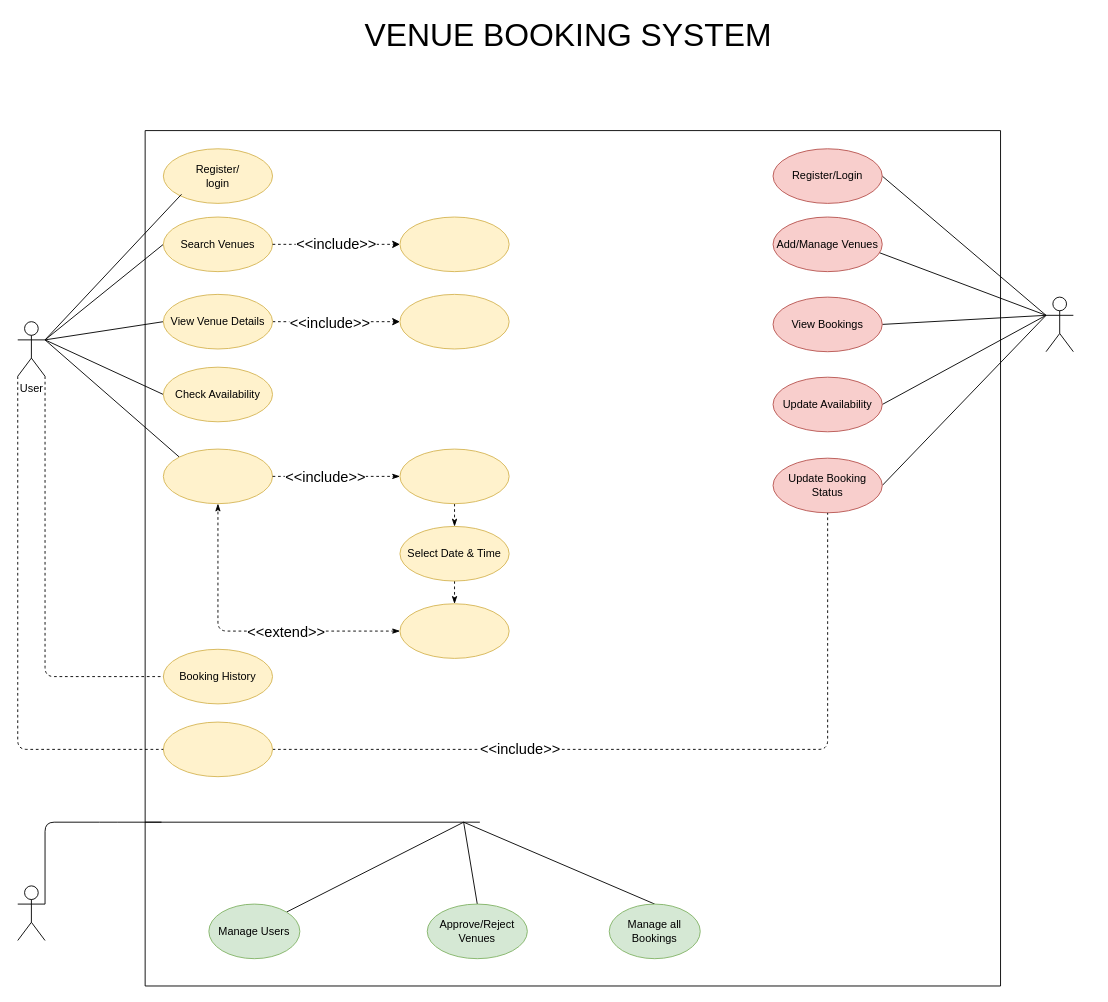
Some shapes in this 1108 by 1002 pixel diagram are drawn without their labels. The shapes that lost their labels are listed below. From the top down, each one's centre as x and y in pixels, then its label:
At (454,244): "Filter Venues".
At (454,321): "View Facilities &Pricing".
At (1059,324): "Venue Owner".
At (217,476): "Contact Venue Owner".
At (454,476): "View Owner details".
At (454,630): "Confirm Booking".
At (217,749): "Booking notifications".
At (31,912): "Admin".
